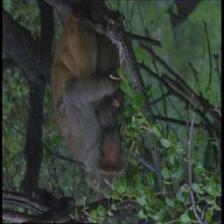monkey: (82, 130, 133, 194), (94, 93, 128, 126)
